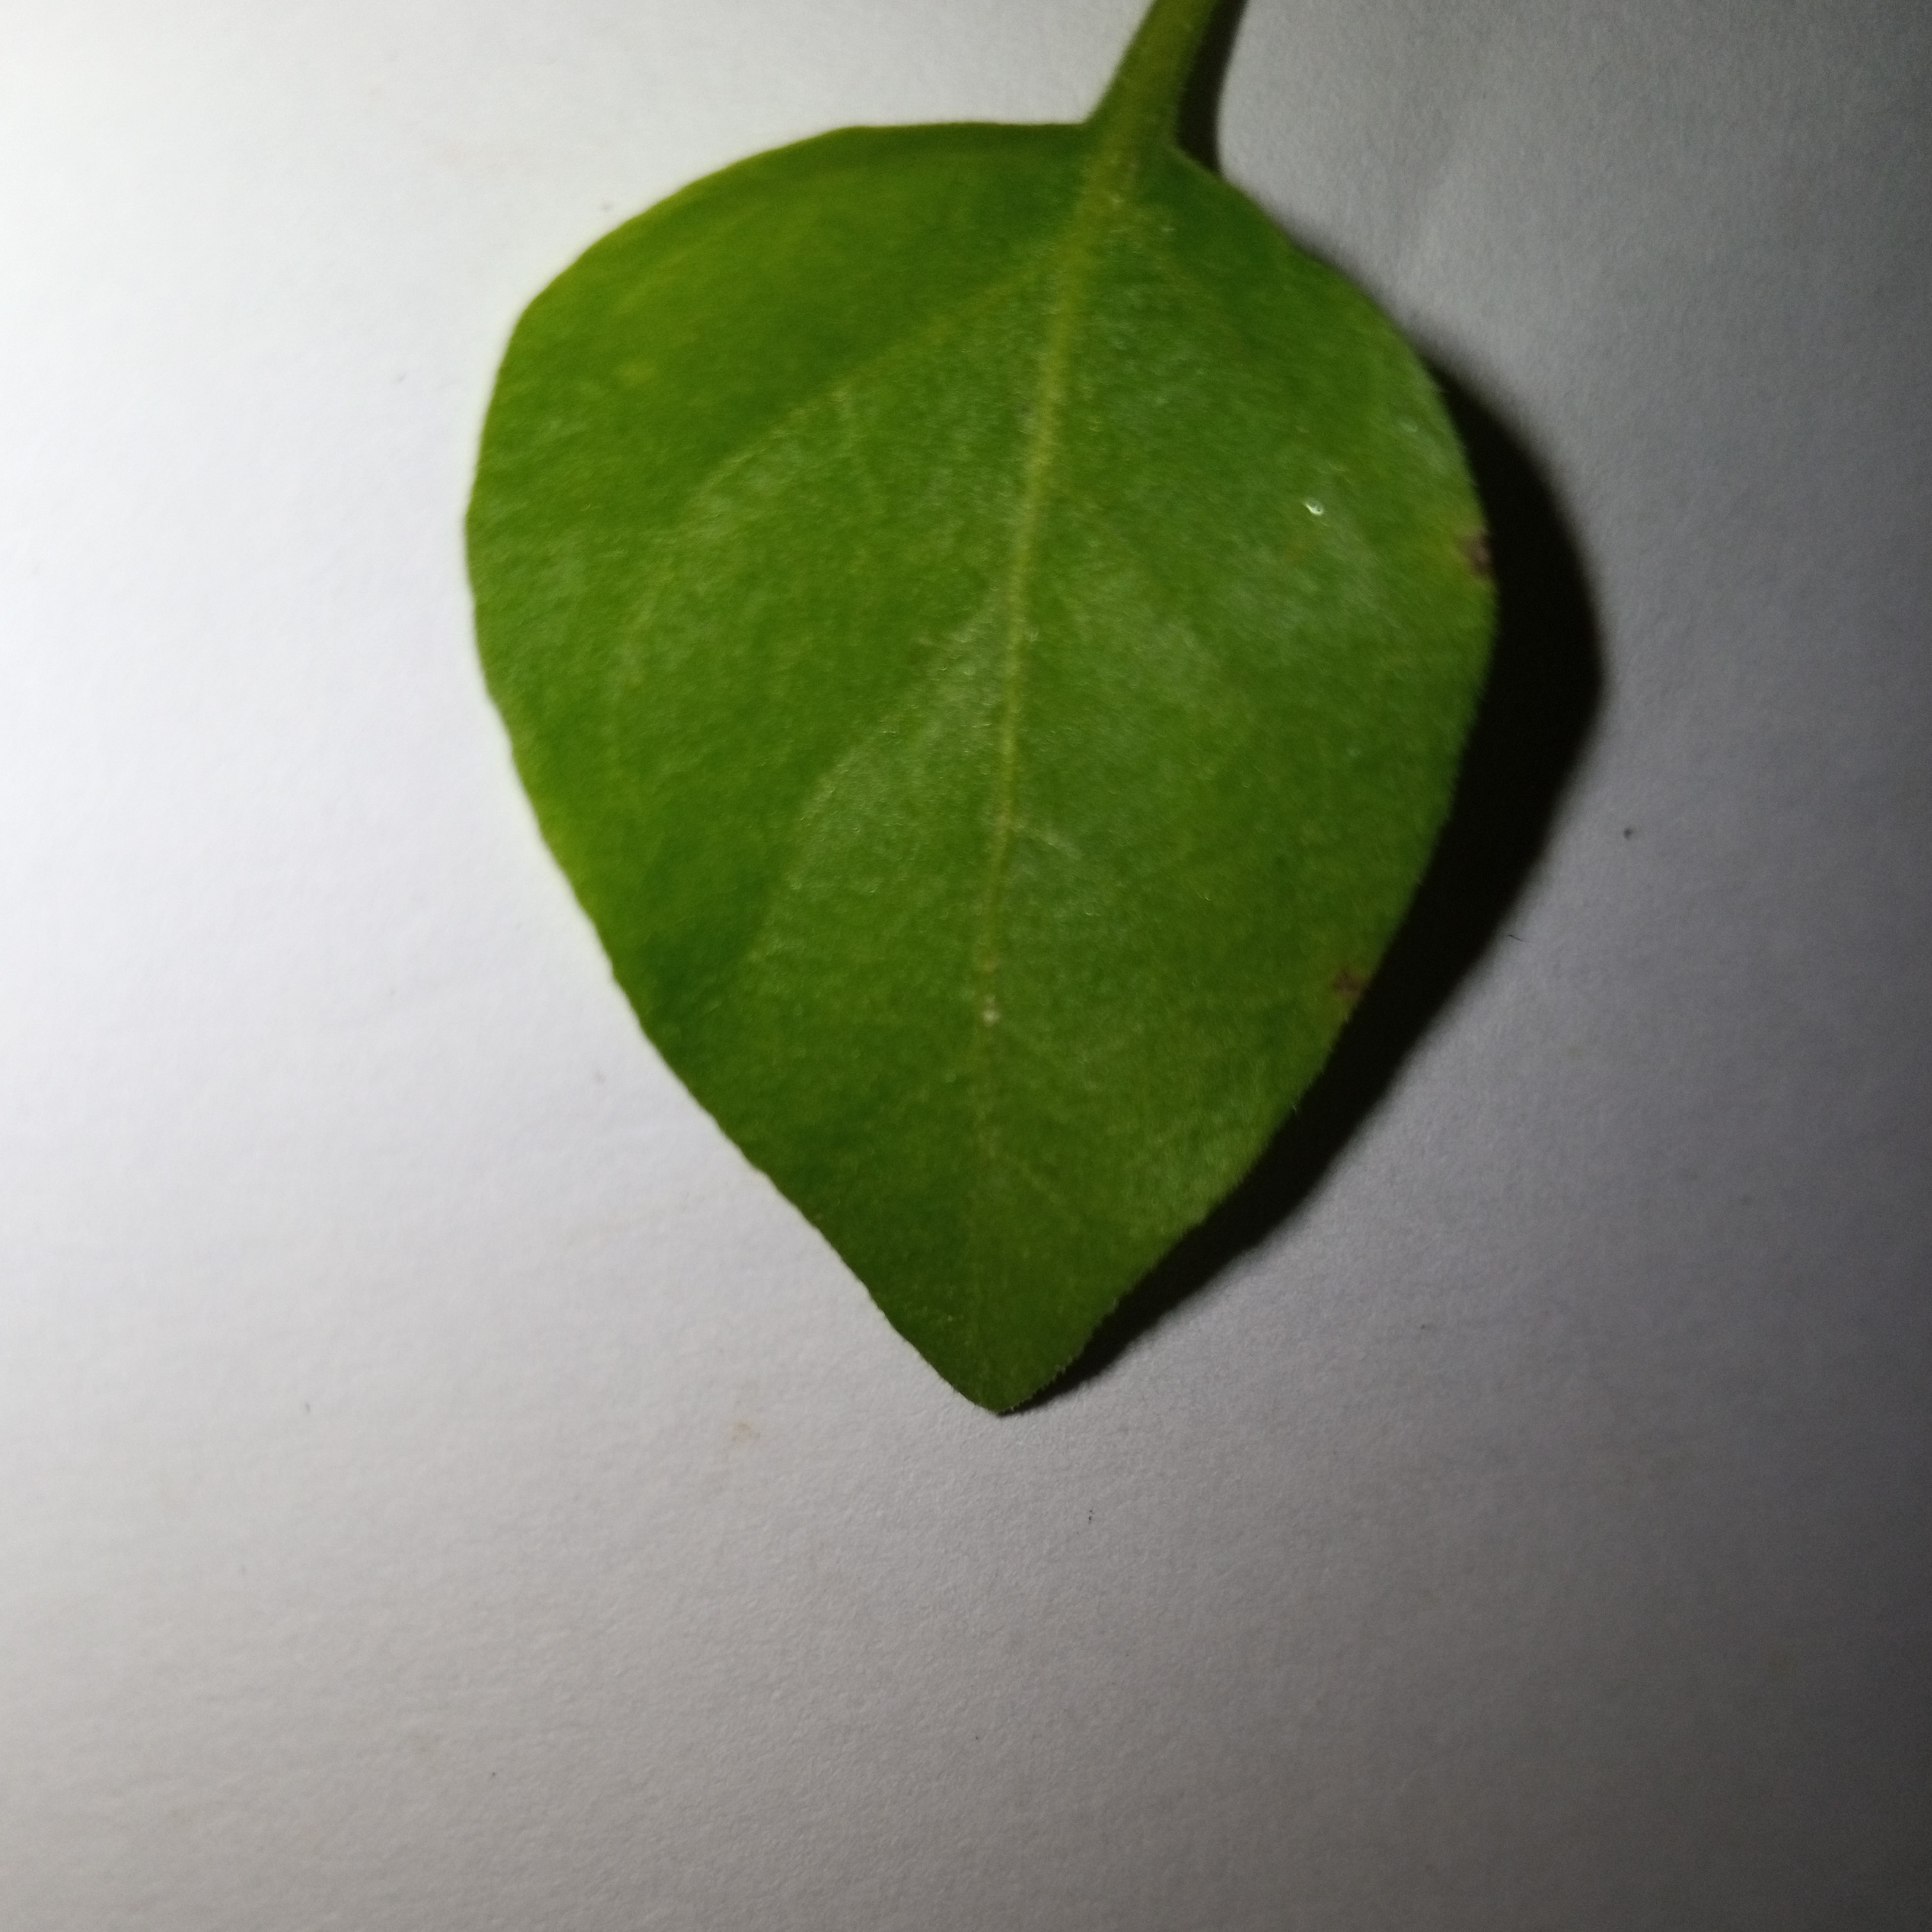Leaf: (357, 46, 1559, 1628)
